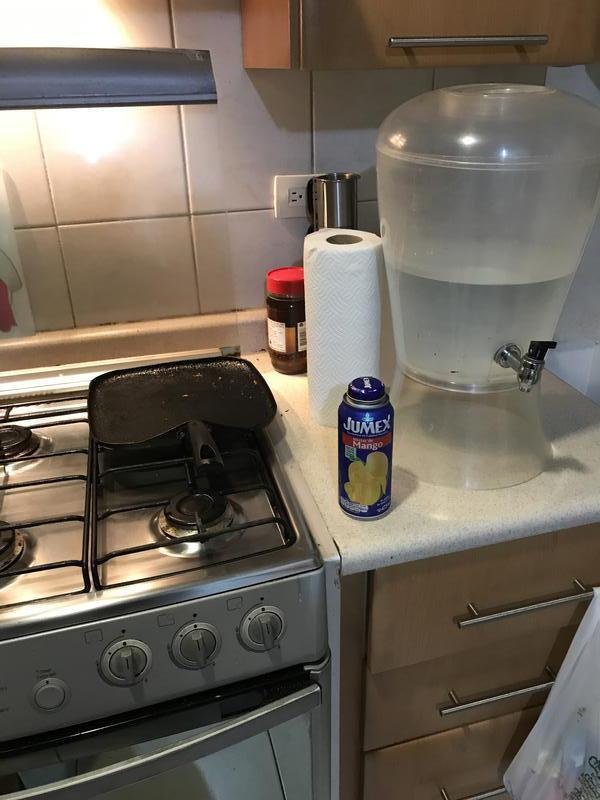jugo_jumex: (340, 378, 395, 520)
